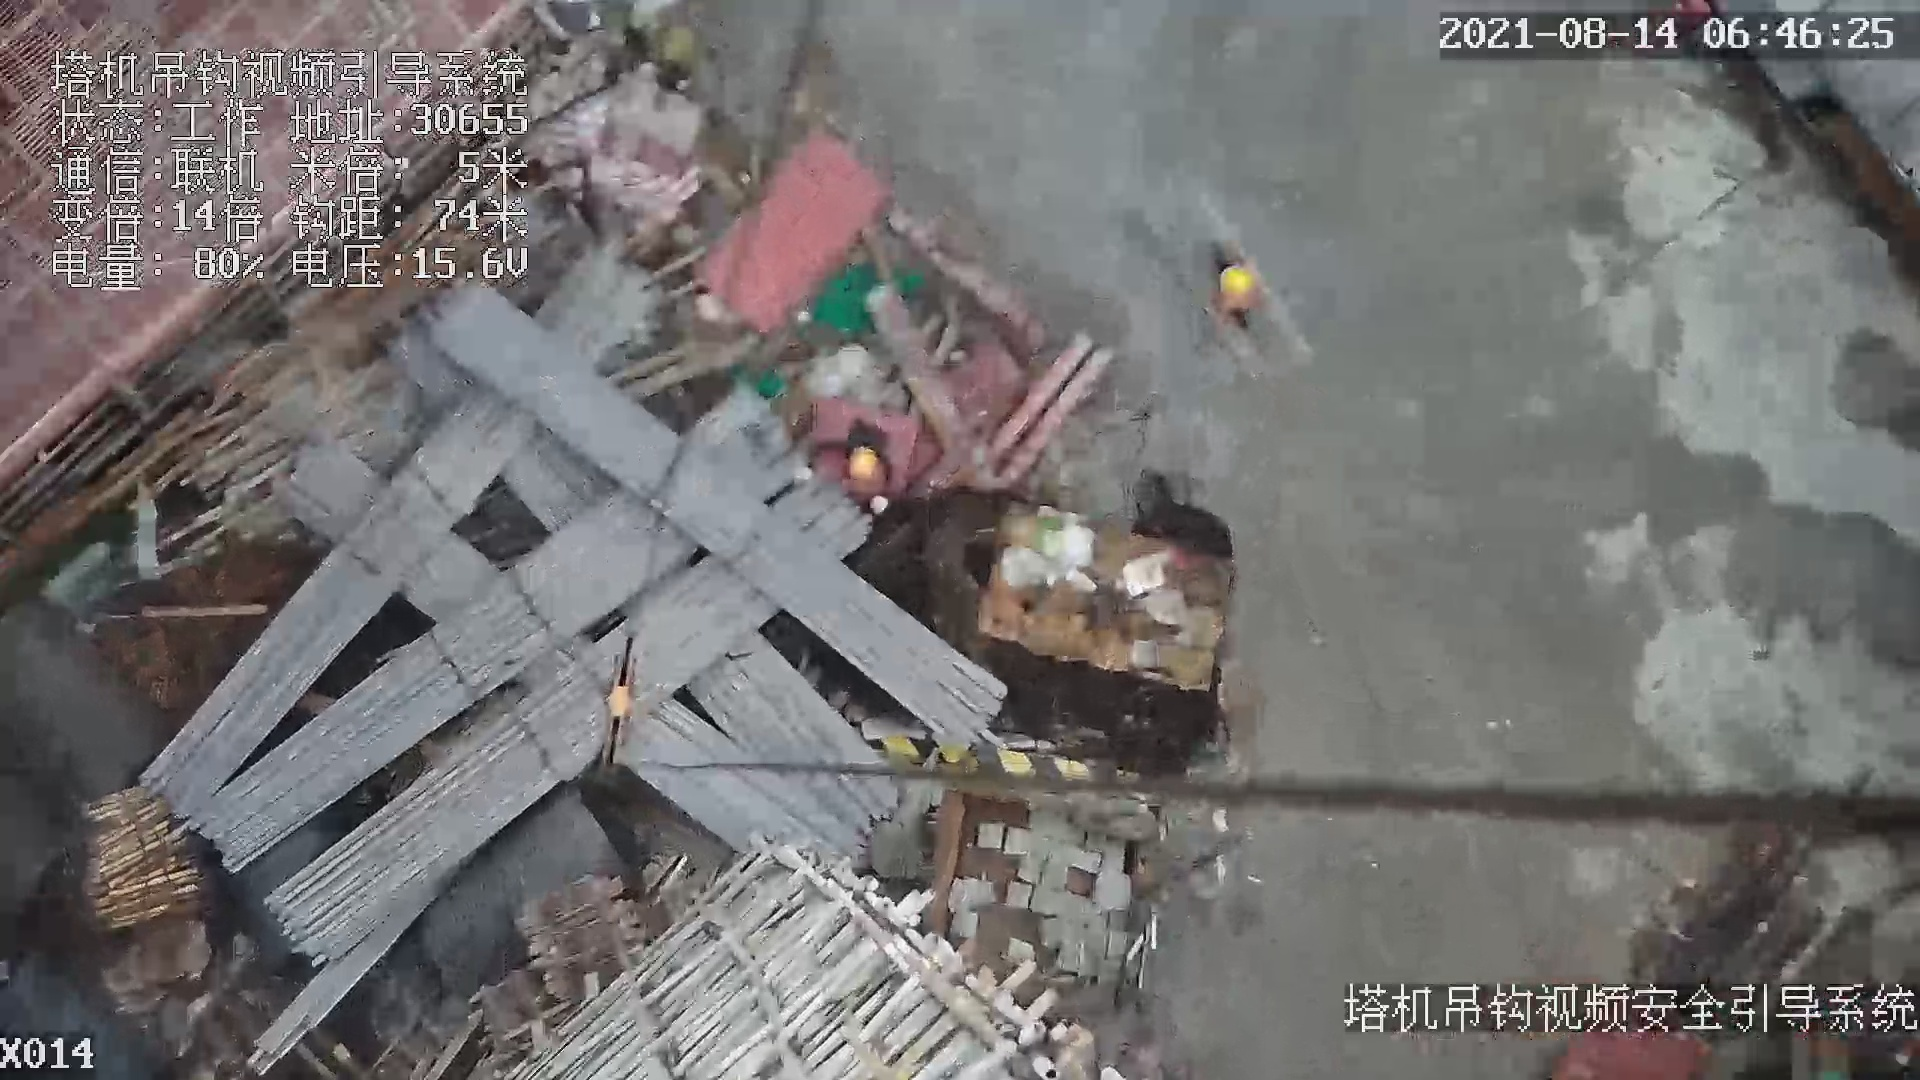helmet: (852, 446, 880, 483)
hook: (604, 636, 654, 782)
person: (800, 428, 890, 508), (1209, 247, 1262, 333)
